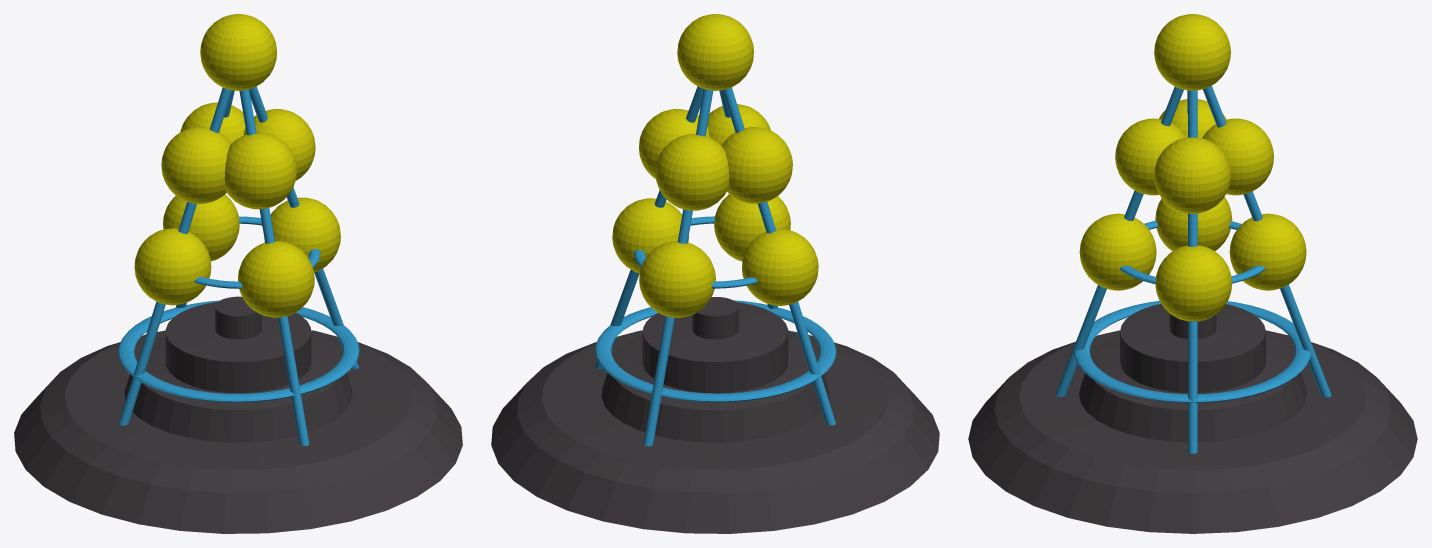
File: zap_tower.obj
3 views of the same model, side by side, from view 1: azimuth 30°, elevation 25°; view 2: azimuth 150°, elevation 25°; view 3: azimuth 270°, elevation 25° (orthographic).
Visible parts, largest first — view 1: Base, Orb3, Orb2, Frame, Orb1; view 2: Base, Orb3, Orb2, Frame, Orb1; view 3: Base, Orb3, Orb2, Frame, Orb1.
Boxes of the visible parts, bbox=[...] form: Base: bbox=[14, 296, 462, 533]; Orb3: bbox=[134, 194, 340, 317]; Orb2: bbox=[161, 102, 315, 209]; Frame: bbox=[118, 86, 359, 445]; Orb1: bbox=[200, 14, 276, 90]; Base: bbox=[491, 297, 939, 533]; Orb3: bbox=[612, 194, 818, 317]; Orb2: bbox=[639, 104, 792, 210]; Frame: bbox=[595, 86, 836, 446]; Orb1: bbox=[677, 14, 753, 90]; Base: bbox=[968, 304, 1417, 533]; Orb3: bbox=[1079, 197, 1306, 321]; Orb2: bbox=[1115, 99, 1273, 213]; Frame: bbox=[1055, 85, 1331, 453]; Orb1: bbox=[1154, 14, 1230, 90].
Size of the model in its own units: 11.68 by 12.08 by 11.68.
